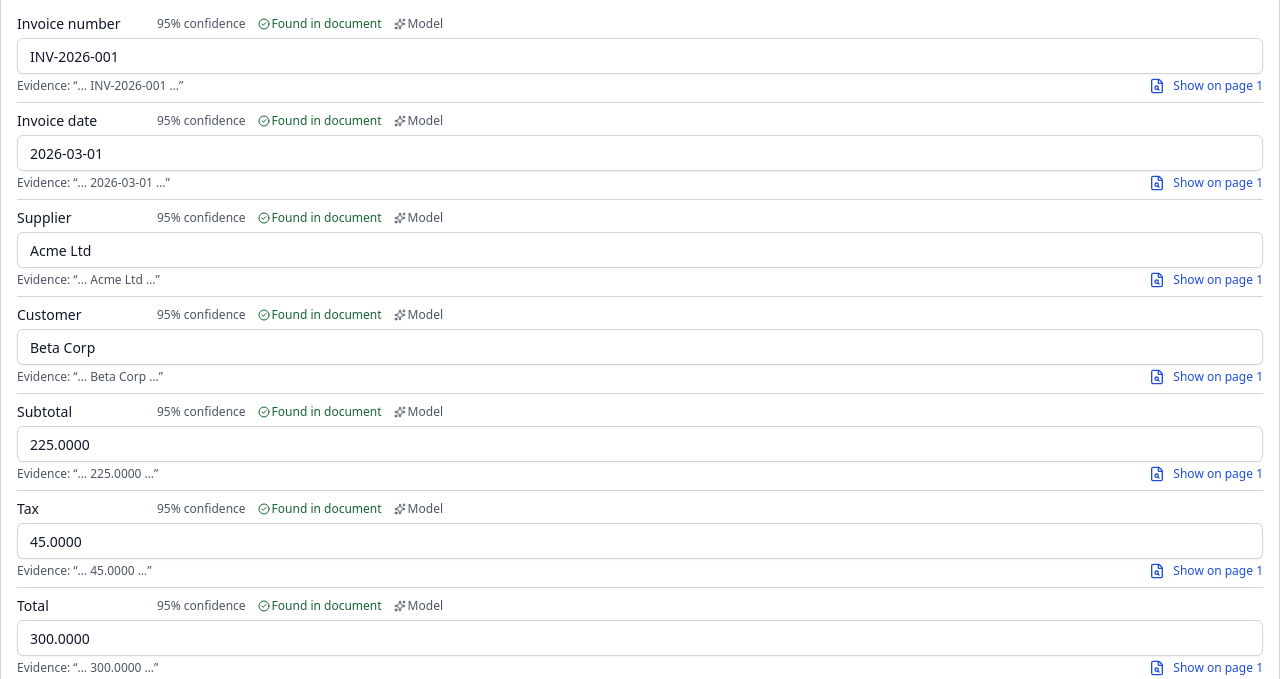
Scenario: fields form › 412 opens the conflict dialog
(page scrolled)
Type " Ltd" into the field labelled "Customer". click: x=640, y=347
box: x1=17 y1=329 x2=1263 y2=365
(page scrolled)
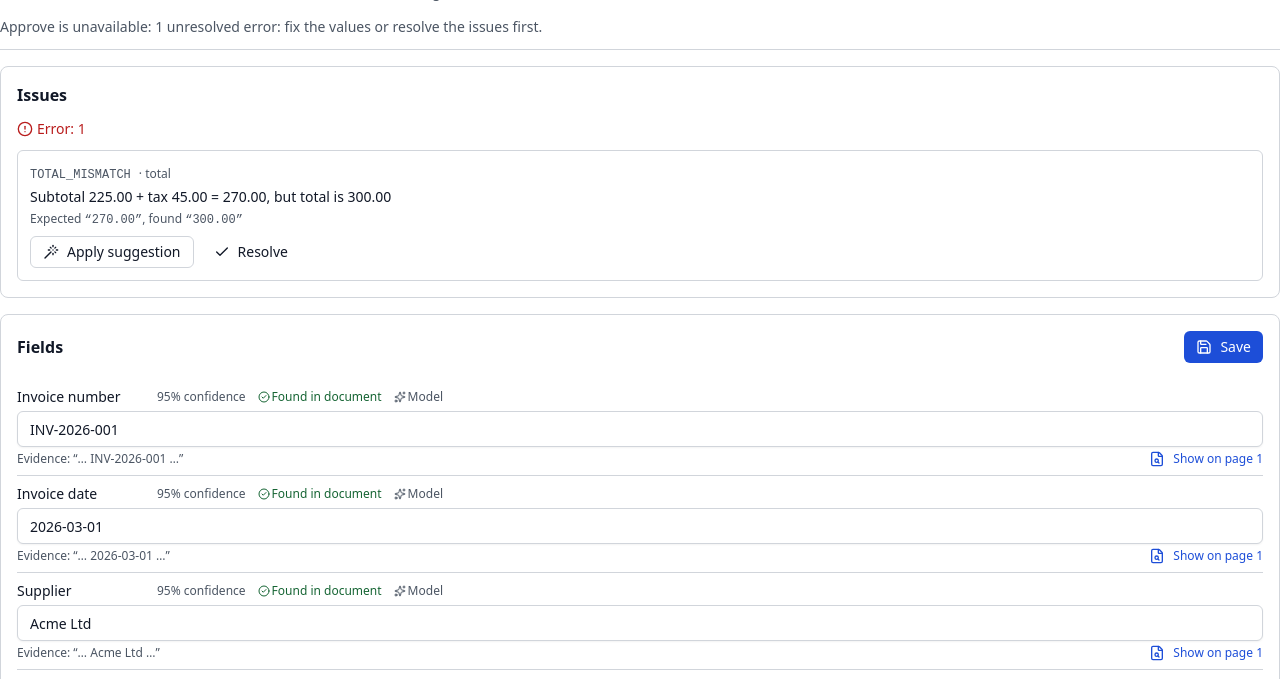
Click the button "Save". click: x=1224, y=347
box: x1=1184 y1=331 x2=1263 y2=363
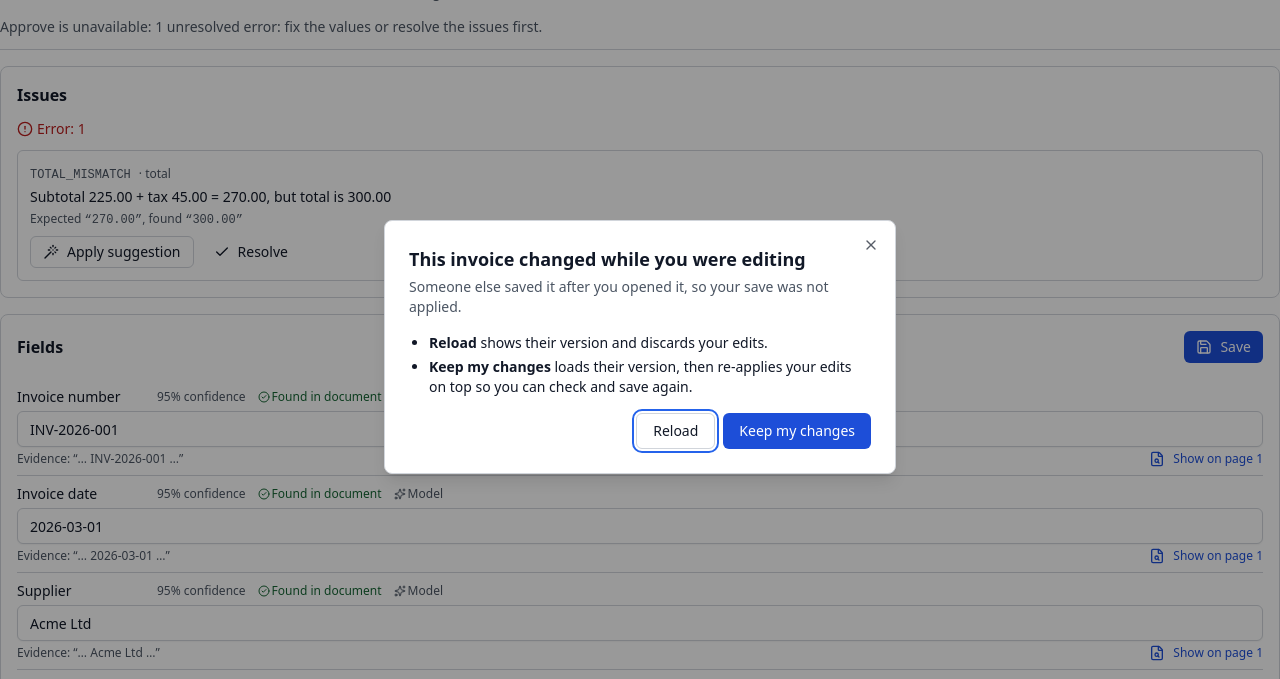
Expected: the button "Reload" is shown, x1=636 y1=413 x2=715 y2=449
Expected: the button "Keep my changes" is shown, x1=723 y1=413 x2=871 y2=449
